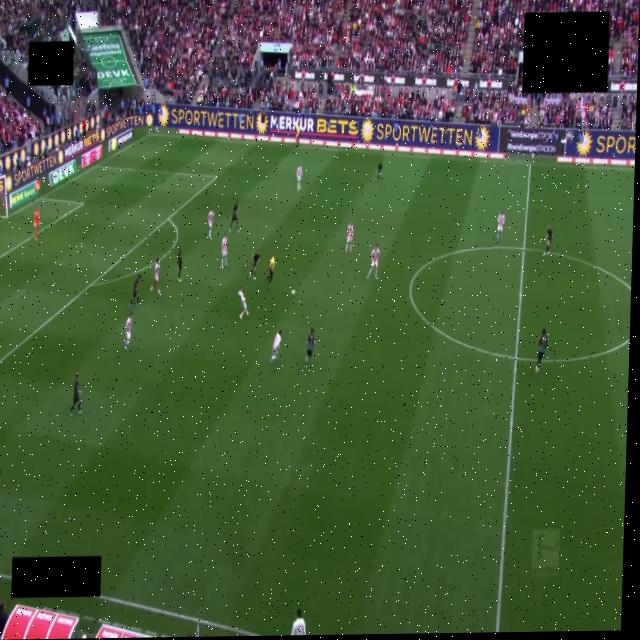ball: (291, 290, 295, 295)
player: (535, 329, 548, 373), (70, 374, 82, 415), (129, 274, 141, 309), (305, 328, 315, 365), (271, 330, 282, 363), (368, 246, 379, 279), (238, 287, 249, 319), (150, 259, 160, 293), (229, 200, 239, 232), (125, 313, 133, 351), (543, 225, 552, 256), (250, 249, 259, 280), (346, 222, 354, 253), (207, 208, 215, 238), (497, 211, 504, 243), (221, 234, 227, 269), (34, 208, 40, 240), (178, 246, 182, 281), (297, 165, 302, 191), (377, 162, 382, 181)
referee: (266, 254, 274, 285)
